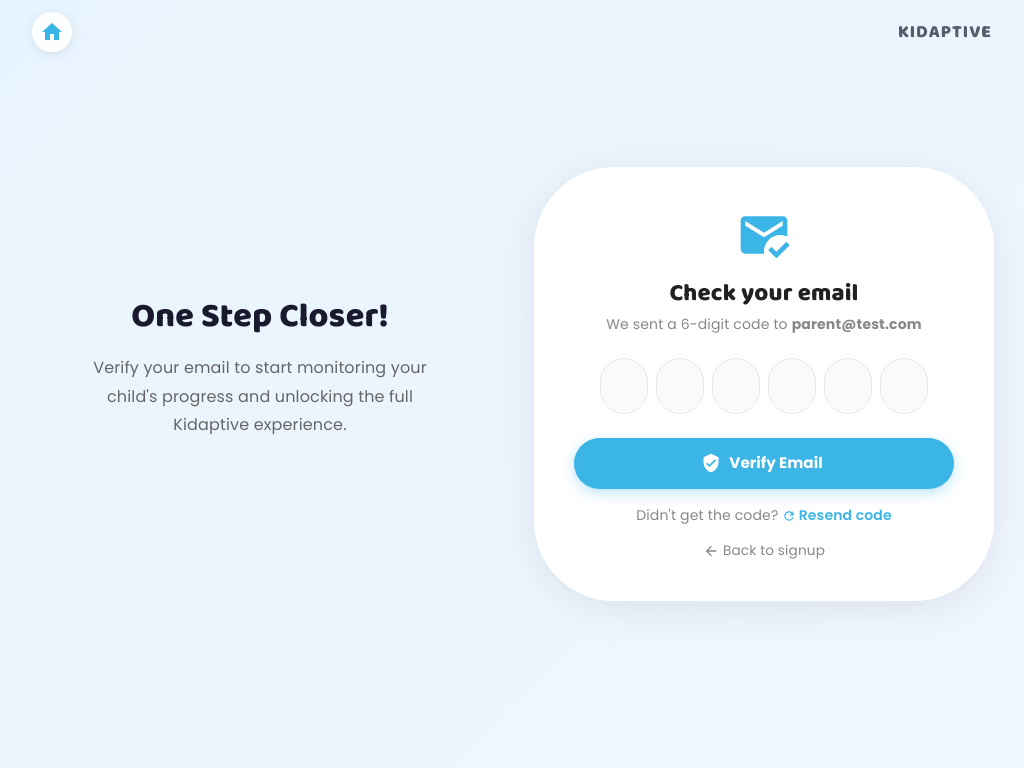
it: VerifyEmailPage › shows error when submitting without filling all 6 digits
The width and height of the screenshot is (1024, 768).
Click the button "Verify Email": (764, 463) [574,438,954,489]
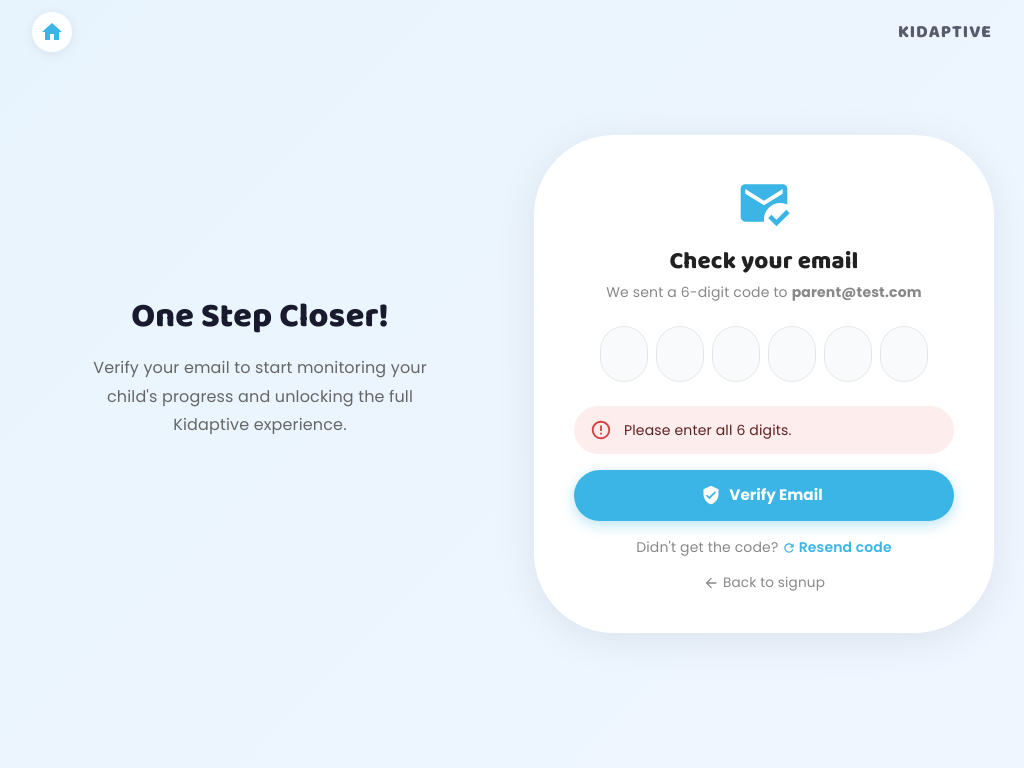
Expected: the text "Please enter all 6 digits." is shown, [624,420,792,440]
